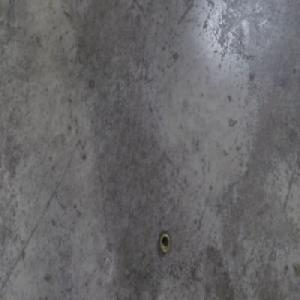Nut: (158, 228, 170, 253)
